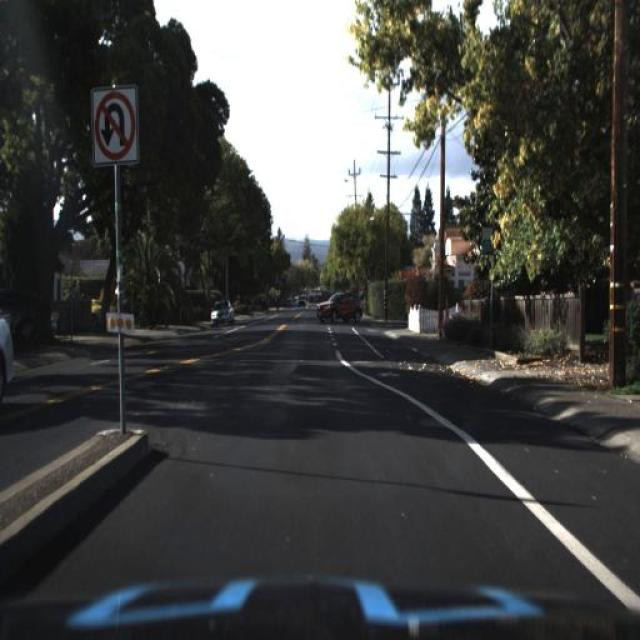car: (312, 286, 364, 326), (1, 298, 17, 407), (207, 298, 234, 328)
